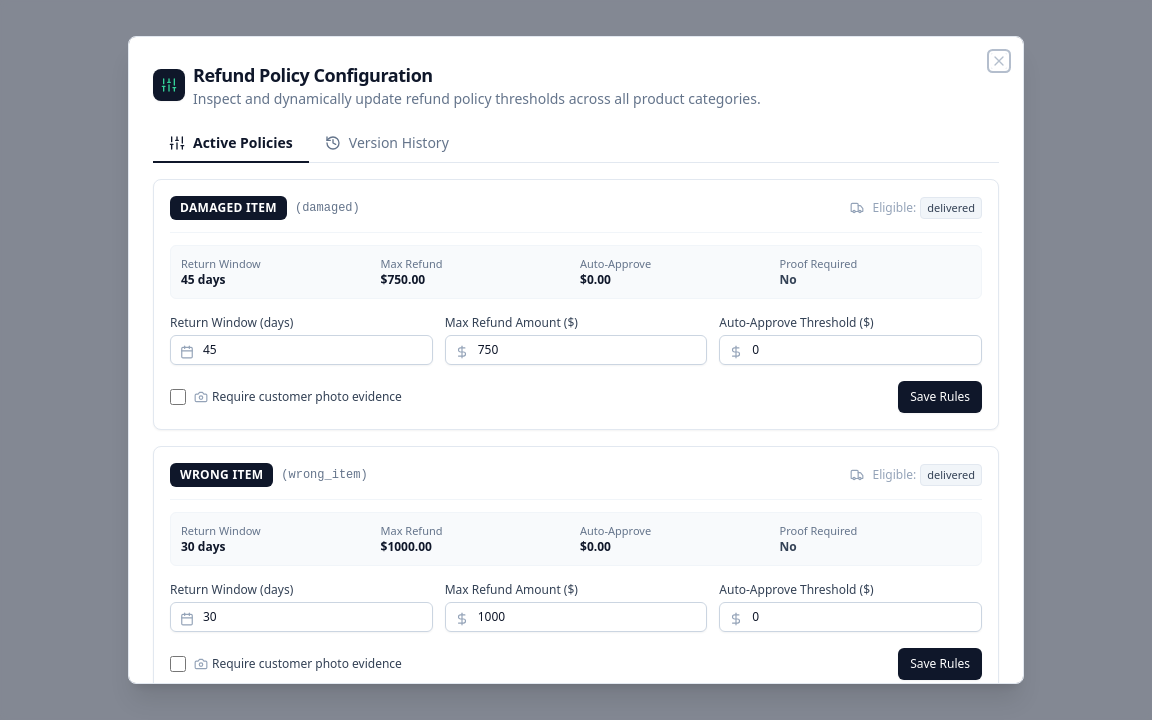
Scenario: Policy Version History and Audit Log Rollback Integration Tests › allows operators to switch between Active Policies and Version History tabs
The image size is (1152, 720).
Expected: the button with test id "tab-active-policies" is shown, x1=153 y1=125 x2=309 y2=163
Expected: the element with test id "policy-card-damaged" is shown, x1=153 y1=179 x2=999 y2=430
// Switch to Version History tab
Click the button with test id "tab-policy-history" at (387, 144), box x1=309 y1=125 x2=465 y2=163
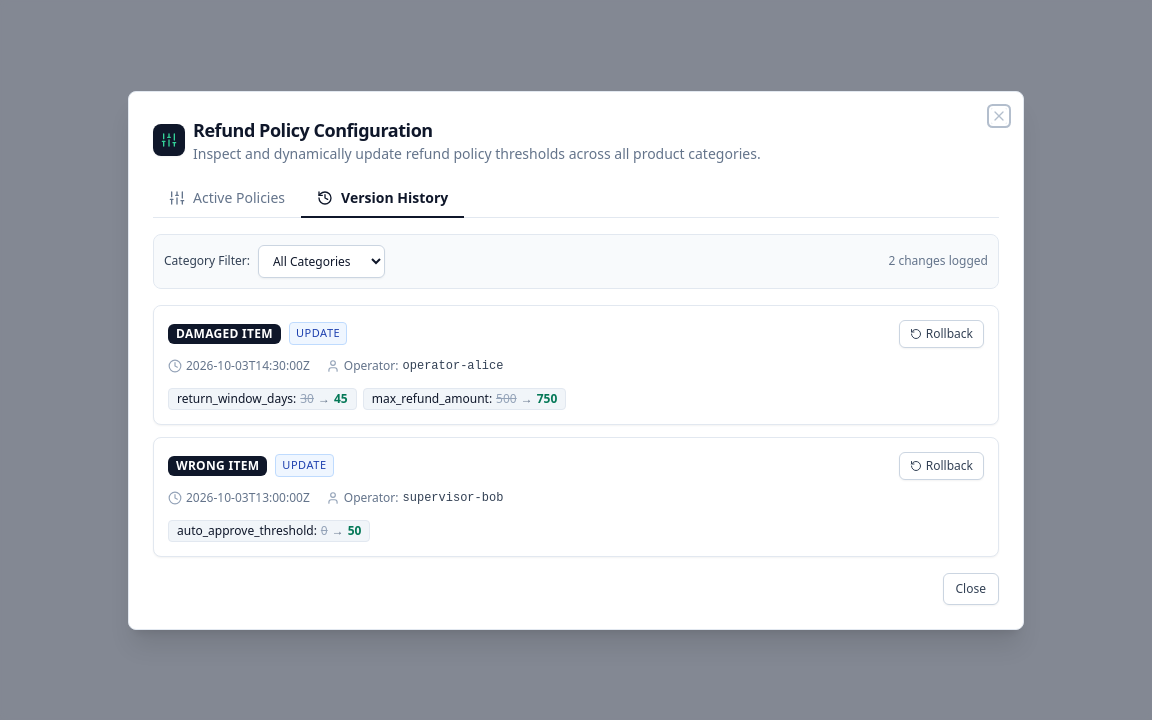
Now the dropdown with test id "history-category-filter" is shown, box x1=258 y1=244 x2=385 y2=278
Now the element with test id "policy-card-damaged" is gone
// Switch back to Active Policies tab
Click the button with test id "tab-active-policies" at (227, 198), box x1=153 y1=180 x2=301 y2=218
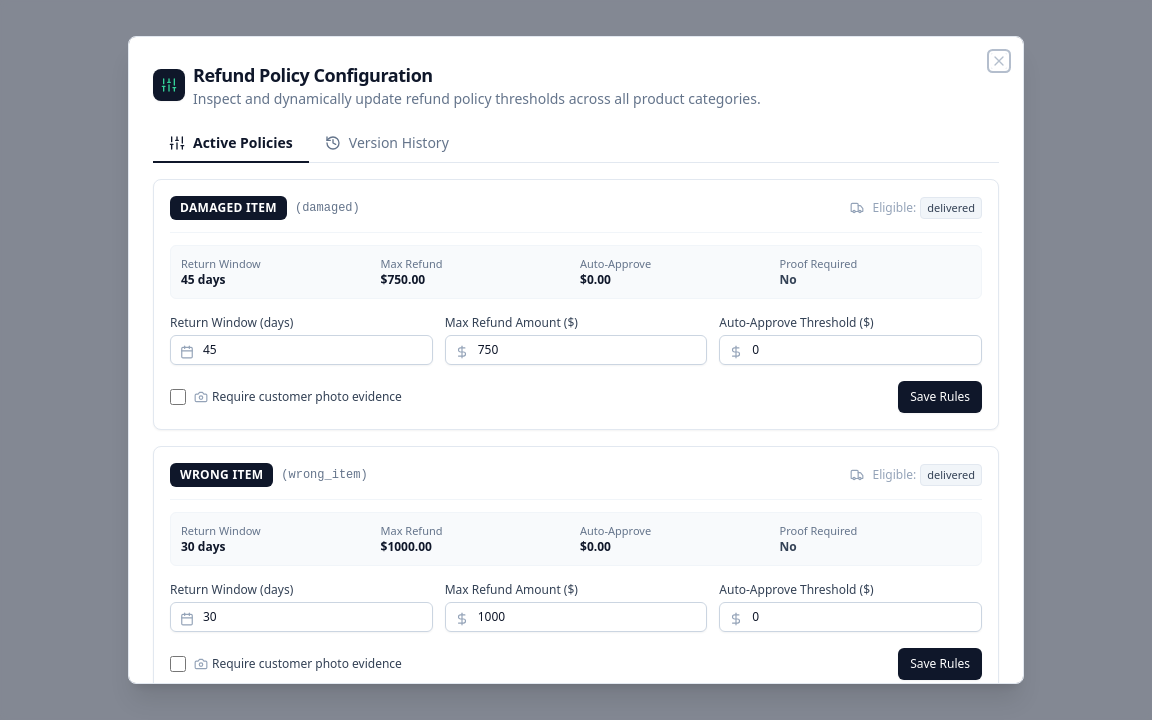
Now the element with test id "policy-card-damaged" is shown, box x1=153 y1=179 x2=999 y2=430
Now the label with test id "history-category-filter" is gone
